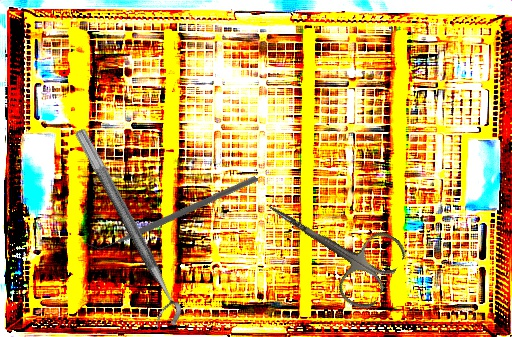Chopper: (85, 118, 259, 304)
Fixation Ring: (58, 126, 188, 335)
Iris Scissors: (247, 170, 411, 316)
